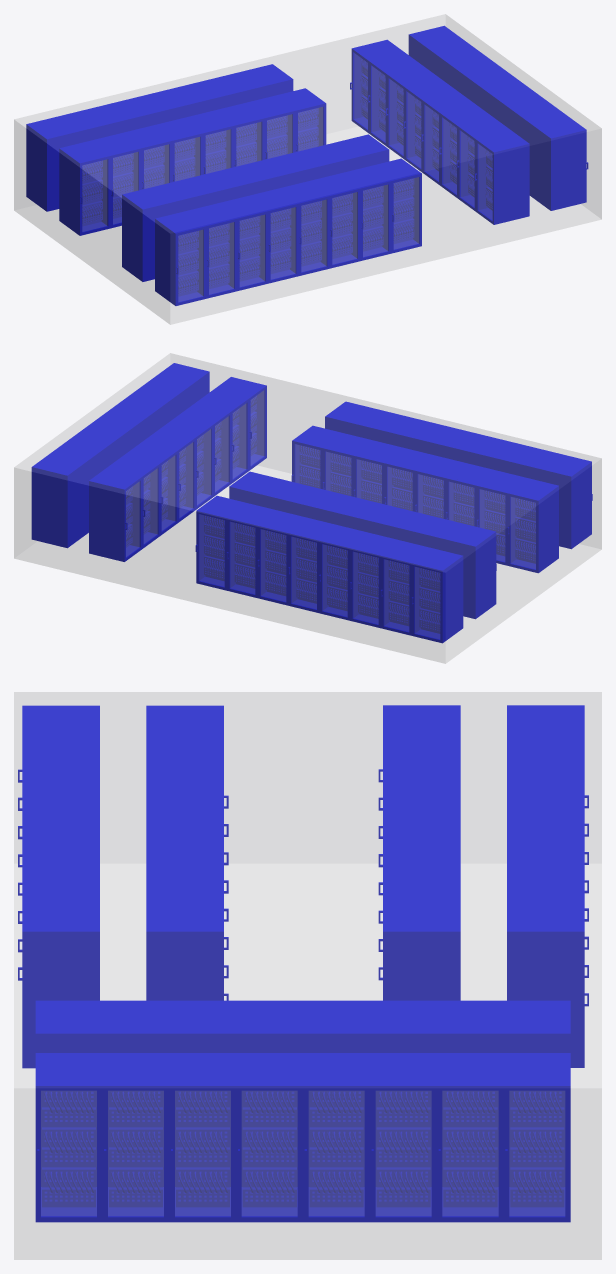
The model's file is therma_dynamics.glb.
The picture shows the model from 3 angles, top to bottom: view 1: azimuth 30°, elevation 25°; view 2: azimuth 150°, elevation 25°; view 3: azimuth 270°, elevation 25°; orthographic projection. The views are drawn at different scales.
Parts seen in each view (by area): view 1: heat, cluster_unit.041, cluster_unit.040, cluster_unit.017, cluster_unit.033, cluster_unit.001, cluster_unit.002, cluster_unit.012, cluster_unit.011, cluster_unit.016, cluster_unit.013, cluster_unit.010 (+37 smaller); view 2: heat, cluster_unit.018, cluster_unit.048, cluster_unit.001, cluster_unit.002, cluster_unit.033, cluster_unit.017, cluster_unit.021, cluster_unit.022, cluster_unit.025, cluster_unit.020, cluster_unit.024 (+37 smaller); view 3: heat, cluster_unit.037, cluster_unit.038, cluster_unit.040, cluster_unit.039, cluster_unit.018, cluster_unit.034, cluster_unit.035, cluster_unit.036, cluster_unit.025, cluster_unit.010, cluster_unit.026 (+37 smaller).
Boxes of the visible parts, x1,y1,x2,y2 form: heat: (14,14,601,324); cluster_unit.041: (474,131,529,224); cluster_unit.040: (533,117,588,210); cluster_unit.017: (155,211,206,305); cluster_unit.033: (59,141,110,235); cluster_unit.001: (26,116,77,211); cluster_unit.002: (122,187,173,281); cluster_unit.012: (309,173,360,268); cluster_unit.011: (340,166,391,260); cluster_unit.016: (186,203,237,298); cluster_unit.013: (278,181,329,275); cluster_unit.010: (371,158,421,253); heat: (14,353,601,663); cluster_unit.018: (31,454,85,548); cluster_unit.048: (89,468,142,561); cluster_unit.001: (411,548,463,643); cluster_unit.002: (507,478,558,573); cluster_unit.033: (444,524,496,619); cluster_unit.017: (540,454,592,549); cluster_unit.021: (319,525,370,620); cluster_unit.022: (288,518,339,612); cluster_unit.025: (195,495,247,590); cluster_unit.020: (349,533,401,628); cluster_unit.024: (226,503,277,598); heat: (14,692,601,1259); cluster_unit.037: (236,1053,303,1222); cluster_unit.038: (169,1053,236,1222); cluster_unit.040: (35,1053,102,1222); cluster_unit.039: (102,1053,169,1222); cluster_unit.018: (504,1053,570,1222); cluster_unit.034: (437,1053,503,1222); cluster_unit.035: (370,1053,436,1222); cluster_unit.036: (303,1053,369,1222); cluster_unit.025: (507,903,588,1067); cluster_unit.010: (18,903,99,1068); cluster_unit.026: (378,903,460,1000).
Bounding box in the file's own units: 34.66 × 7 × 21.74.
